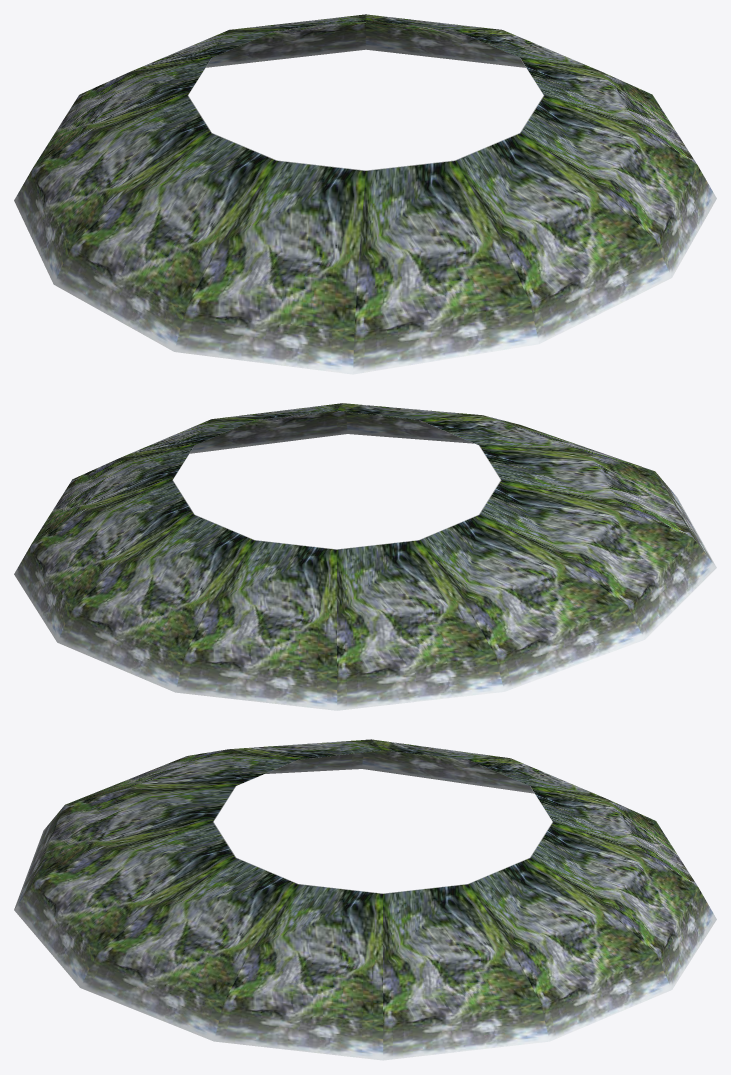
Rendered from nder01.obj.
3 renders of one model, top to bottom at view 1: azimuth 30°, elevation 25°; view 2: azimuth 150°, elevation 25°; view 3: azimuth 270°, elevation 25°, orthographic. The views are drawn at different scales.
Visible parts, largest first — view 1: nder01; view 2: nder01; view 3: nder01.
Boxes of the visible parts, <box> form: nder01: <box>14,14,716,374</box>; nder01: <box>14,403,716,710</box>; nder01: <box>14,739,716,1060</box>.
Size of the model in its own units: 2455 by 383 by 2502.
